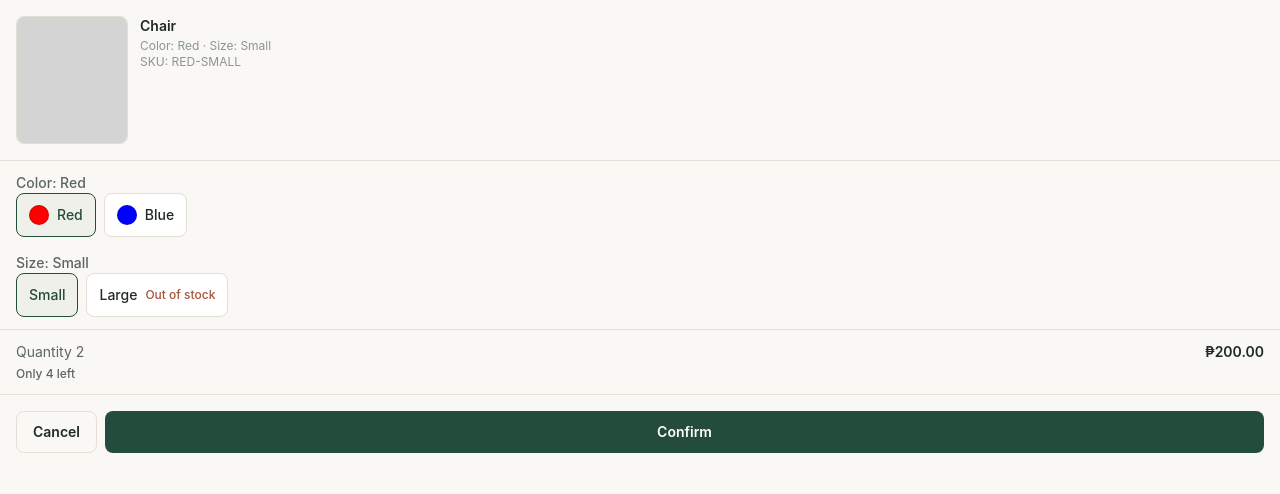
Test: CartOptionPicker › announces the server error, keeps the picker open, and preserves the flow
The image size is (1280, 494).
Click the button with test id "cart-picker-confirm" at (684, 432), box x1=105 y1=411 x2=1264 y2=453
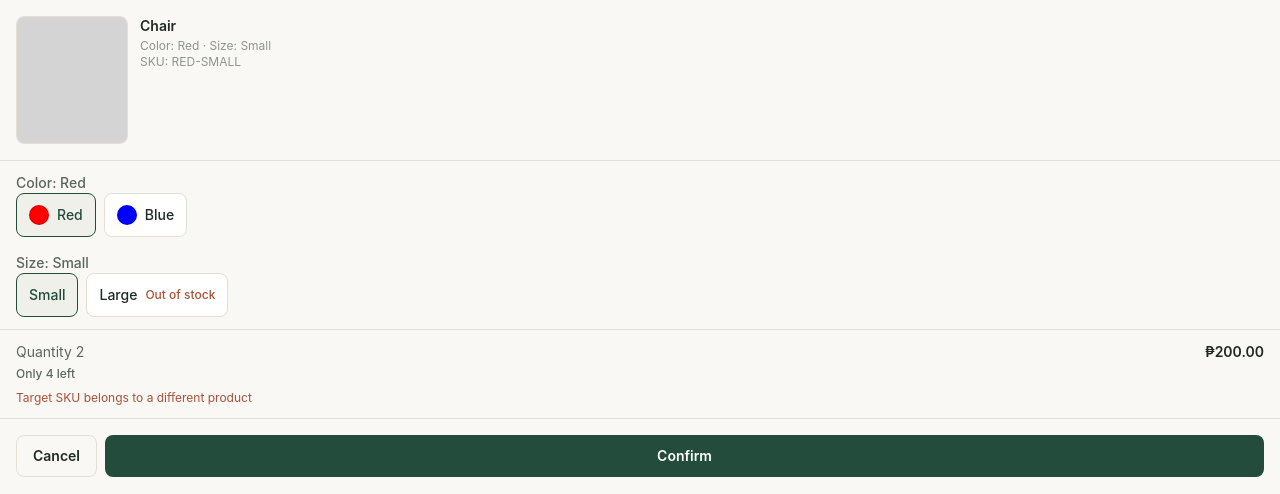
Check: the button with test id "cart-picker-confirm" is enabled, box x1=105 y1=435 x2=1264 y2=477
Check: the message with test id "cart-picker-error" reads "Target SKU belongs to a different product", box x1=16 y1=390 x2=252 y2=405
